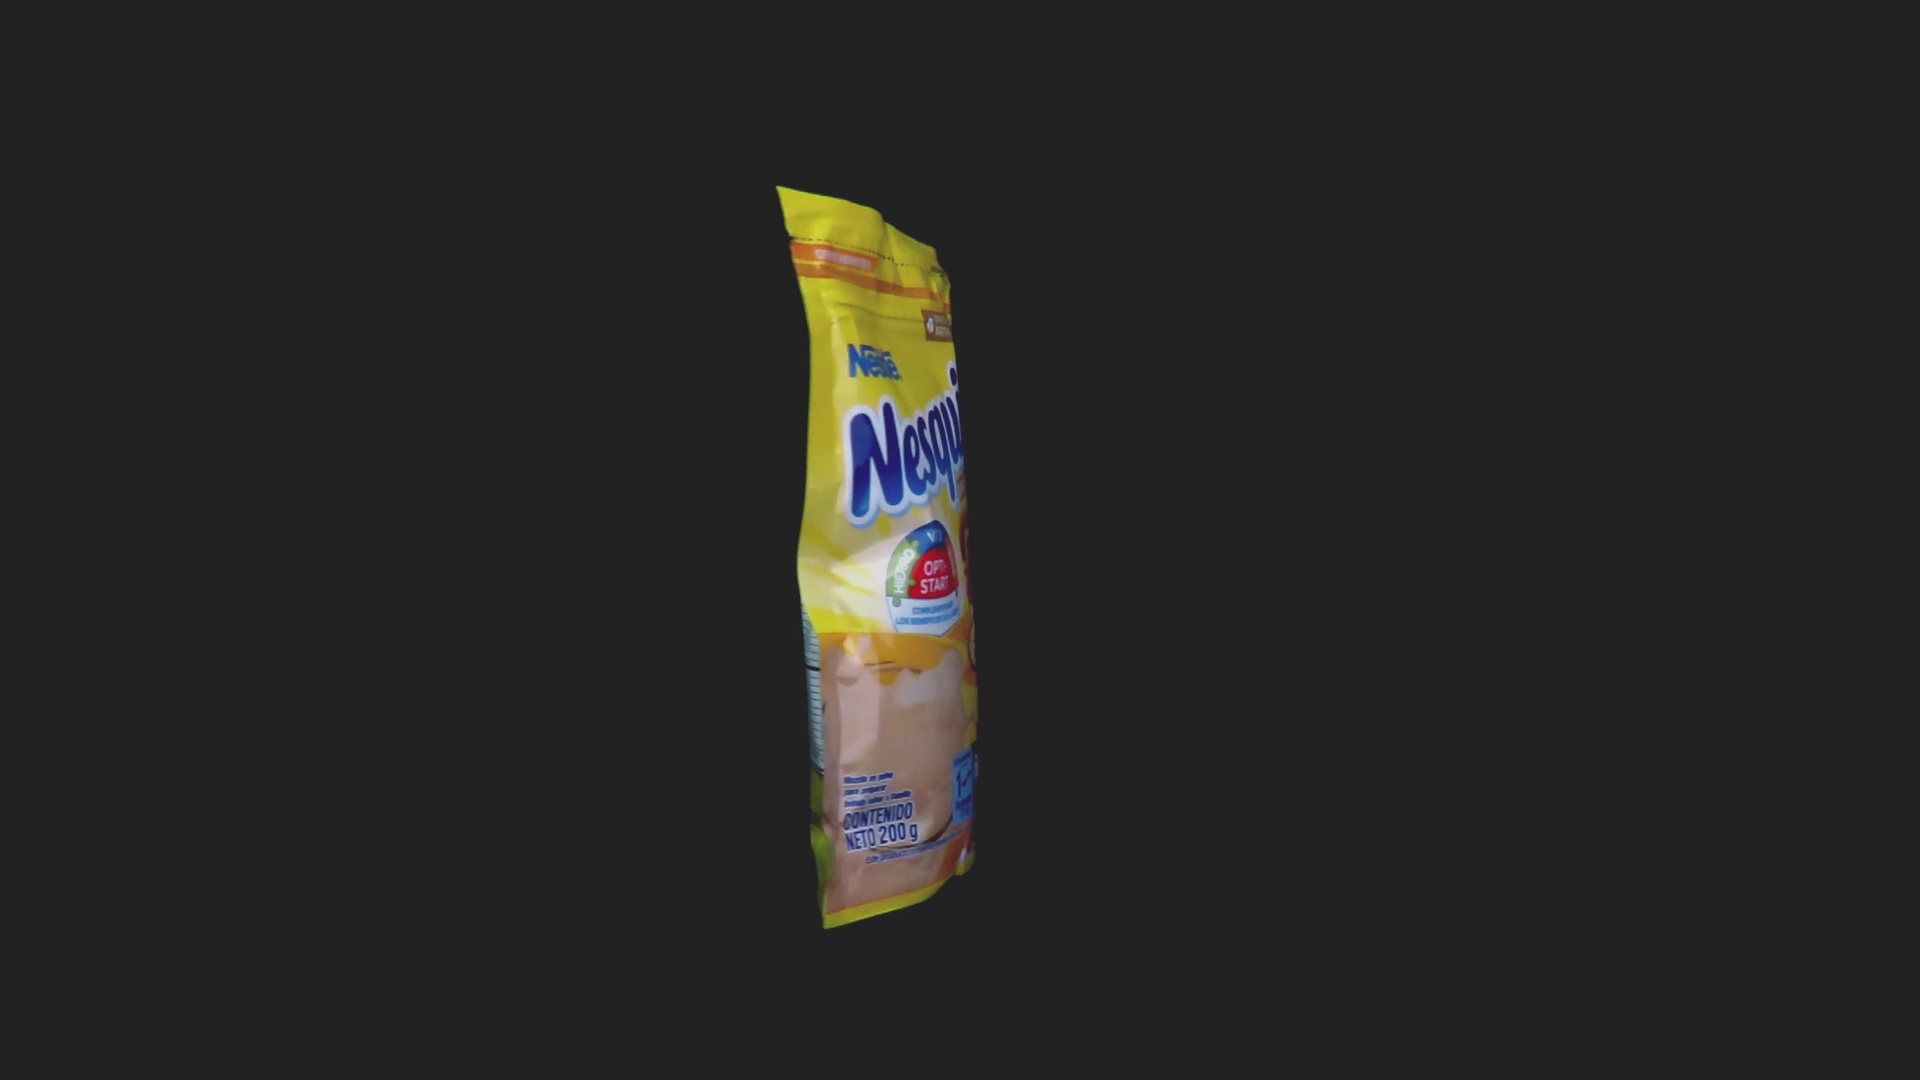COL0170306DYP20000: (770, 181, 982, 935)
